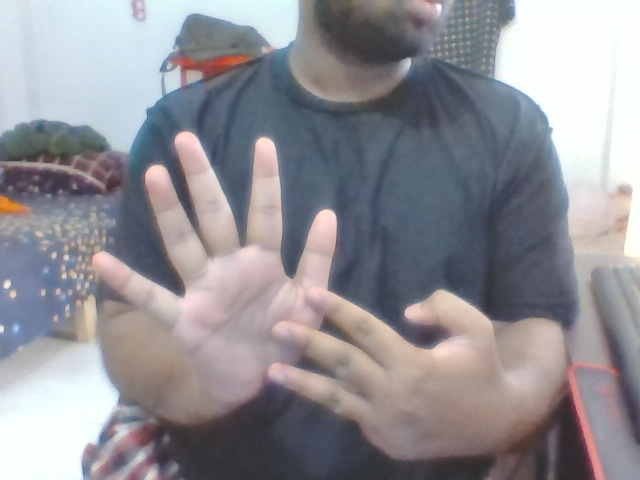M: (83, 124, 511, 471)
